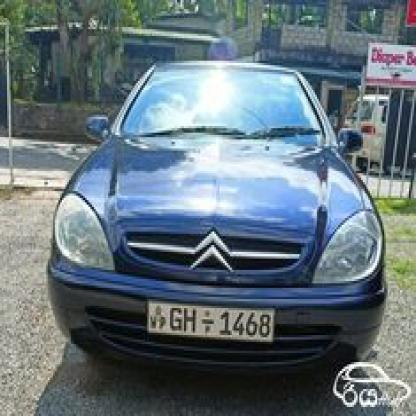car front: (46, 56, 386, 380)
number plate: (147, 306, 275, 343)
